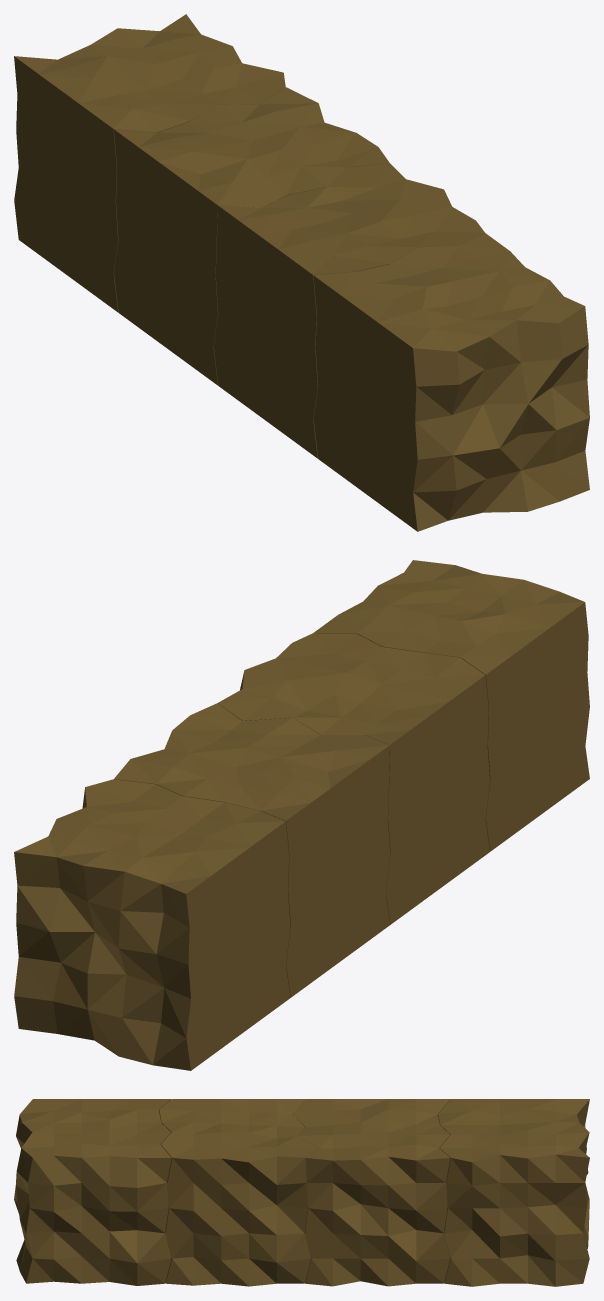
Rendered from SM_startpath_DE.fbx.
3 views of the same model, one above another, from view 1: azimuth 30°, elevation 25°; view 2: azimuth 150°, elevation 25°; view 3: azimuth 270°, elevation 25° (orthographic). The views are drawn at different scales.
Parts seen in each view (by area): view 1: SM_startpath_1_DE, SM_startpath_rightmid_DE, SM_startpath_2_DE, SM_startpath_leftmid_DE; view 2: SM_startpath_2_DE, SM_startpath_leftmid_DE, SM_startpath_rightmid_DE, SM_startpath_1_DE; view 3: SM_startpath_1_DE, SM_startpath_2_DE, SM_startpath_rightmid_DE, SM_startpath_leftmid_DE.
Part boxes in pixels (bbox=[...]): SM_startpath_1_DE: bbox=[313, 233, 589, 531]; SM_startpath_rightmid_DE: bbox=[114, 87, 389, 385]; SM_startpath_2_DE: bbox=[14, 14, 285, 312]; SM_startpath_leftmid_DE: bbox=[213, 163, 485, 458]; SM_startpath_2_DE: bbox=[14, 779, 290, 1070]; SM_startpath_leftmid_DE: bbox=[218, 633, 489, 924]; SM_startpath_rightmid_DE: bbox=[114, 703, 390, 997]; SM_startpath_1_DE: bbox=[314, 560, 589, 851]; SM_startpath_1_DE: bbox=[14, 1099, 171, 1285]; SM_startpath_2_DE: bbox=[437, 1099, 589, 1286]; SM_startpath_rightmid_DE: bbox=[293, 1099, 450, 1286]; SM_startpath_leftmid_DE: bbox=[159, 1099, 318, 1286].
Bounding box in the file's own units: 130 × 123 × 498.
